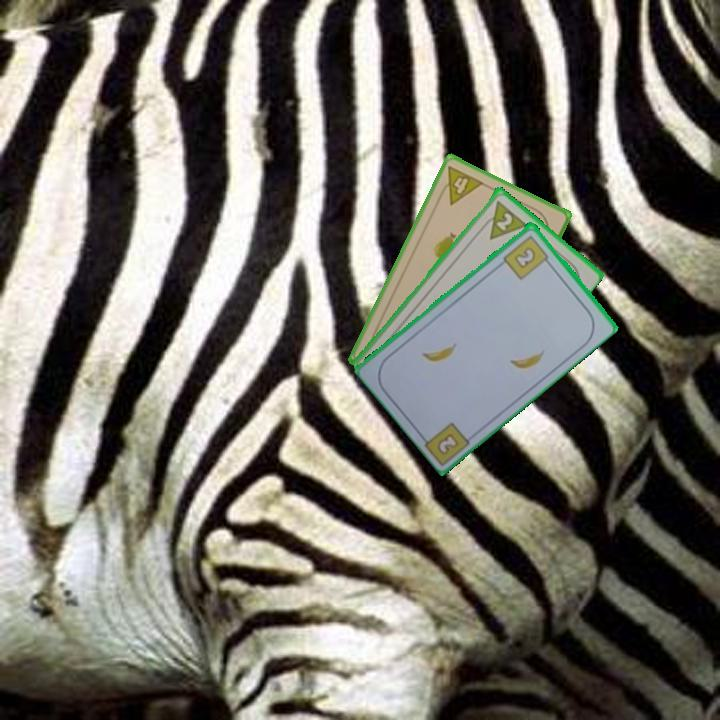2b: (500, 231, 554, 282), (433, 429, 462, 459)
2p: (476, 196, 529, 242)
4p: (434, 162, 487, 208)
